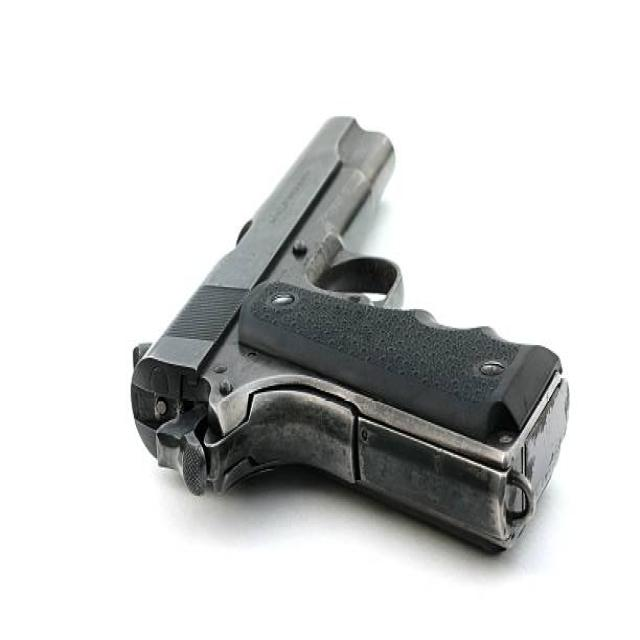pistol: (126, 105, 577, 565)
